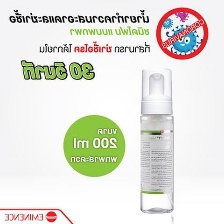cleaning_solution: (136, 67, 178, 214)
